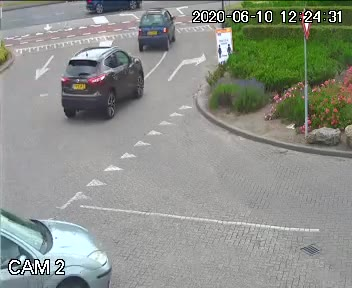car: (0, 189, 122, 288), (58, 50, 147, 133), (135, 4, 174, 57)
